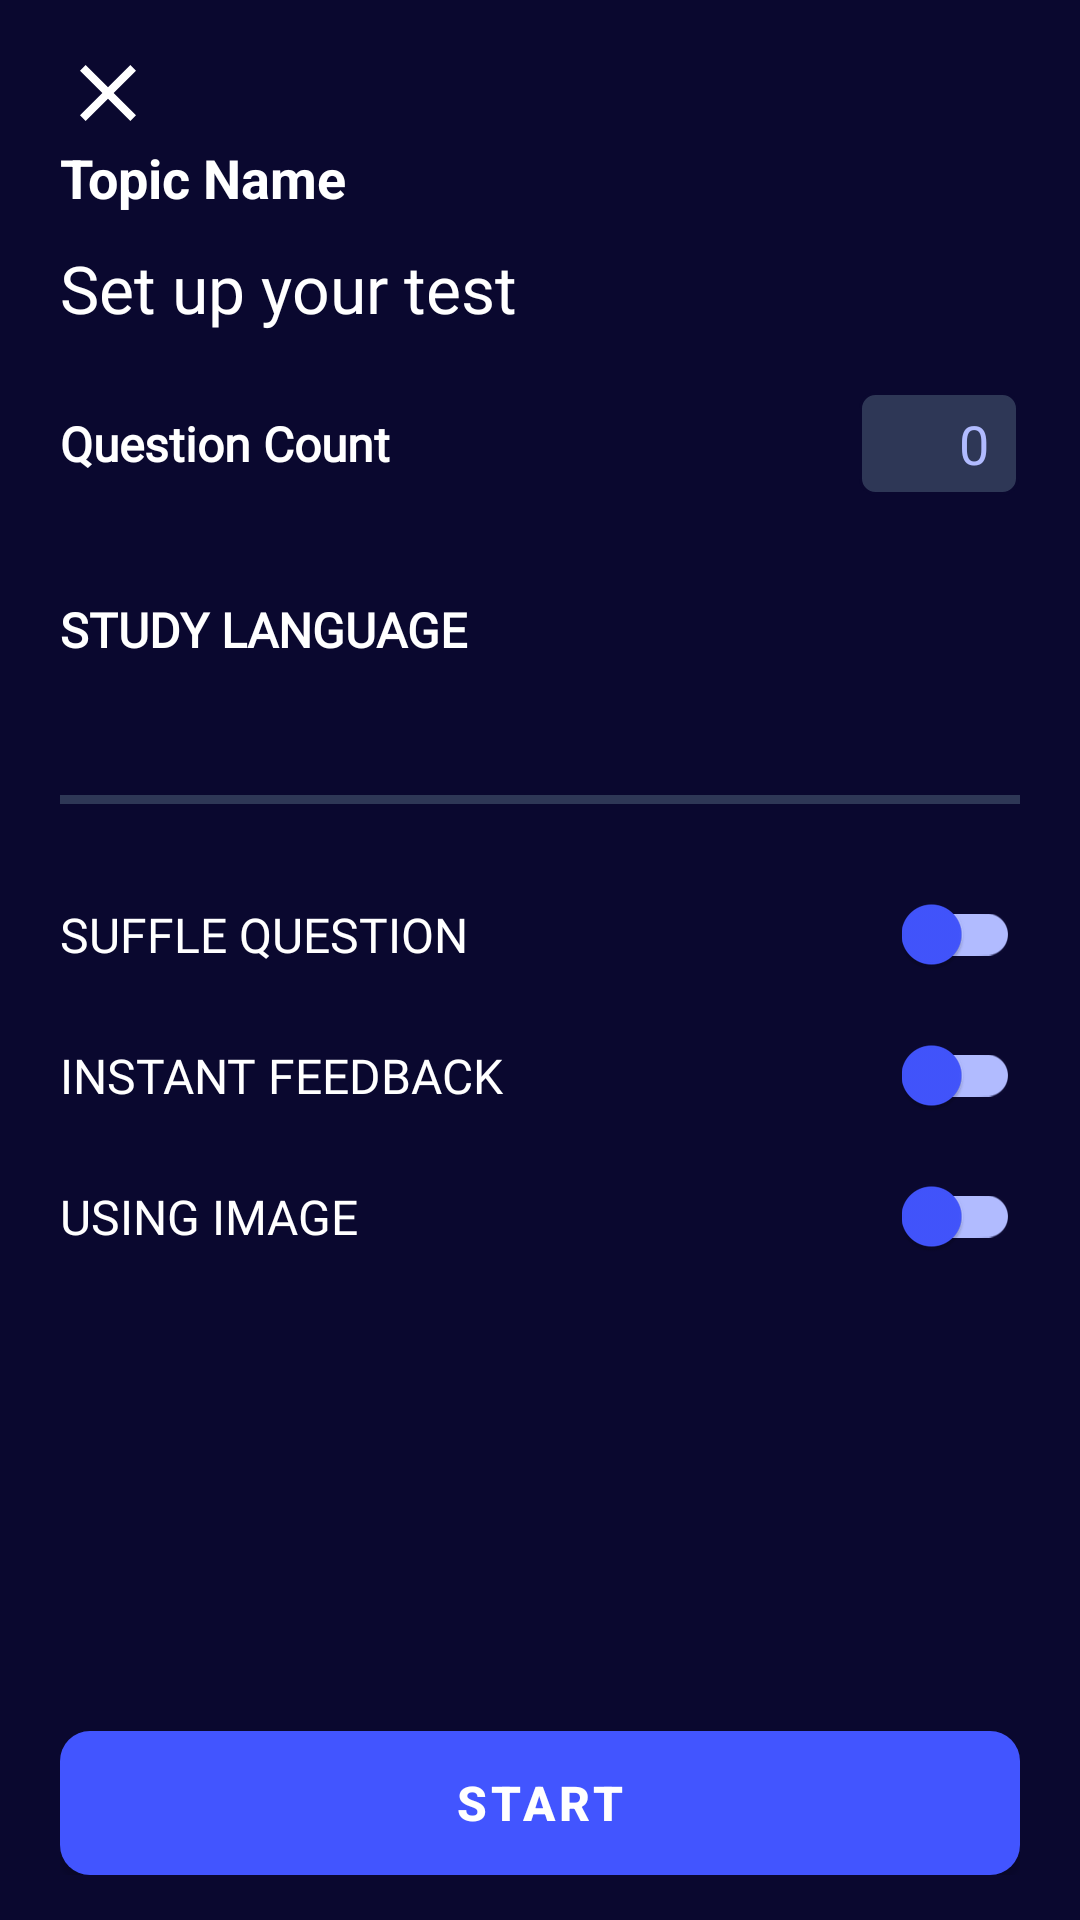

Named icons in this screenshot (1080px x 1920px) and their bounding boxes, (x1=x1, y1=y1, x2=x2, y2=y2):
clear: (x1=80, y1=65, x2=136, y2=121)
